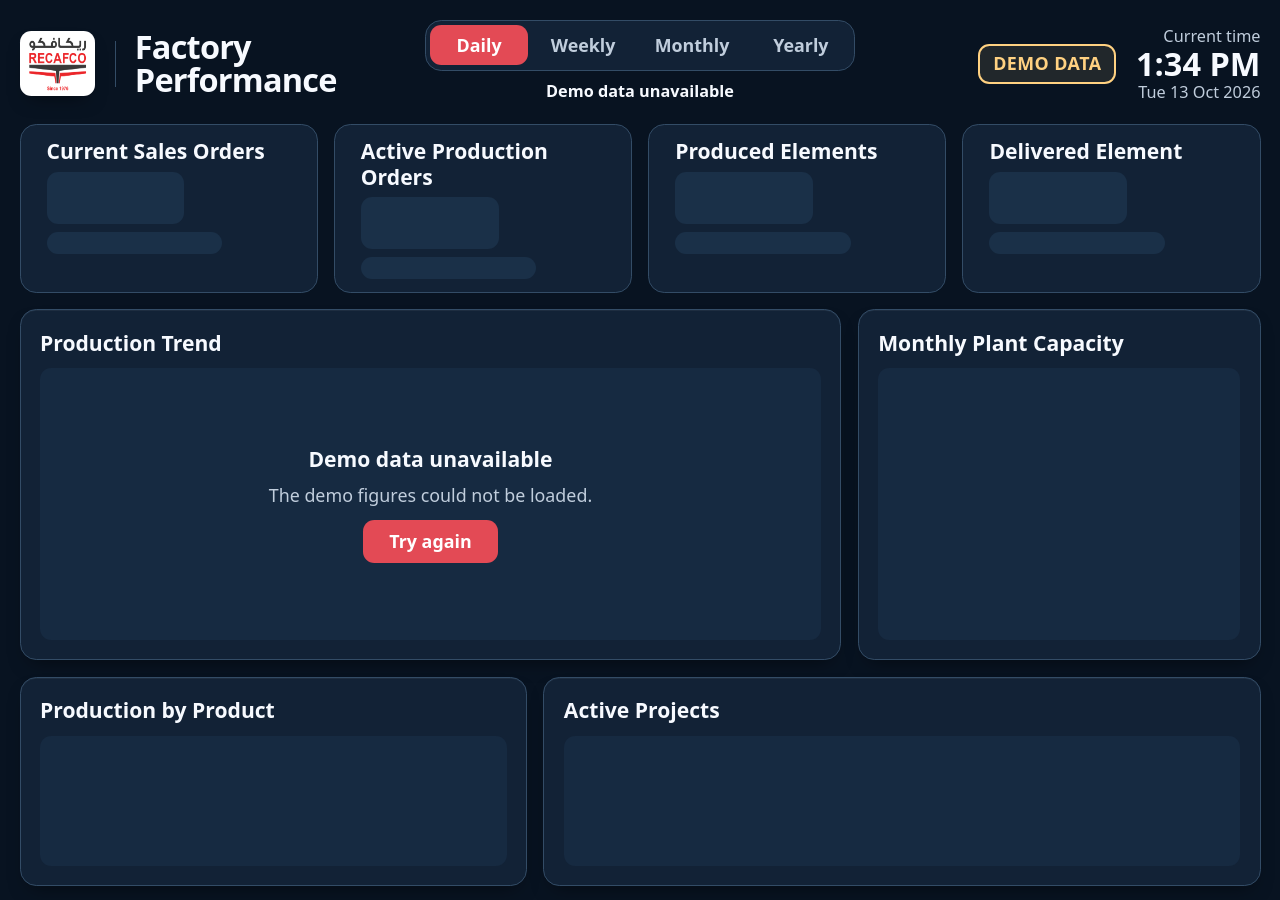
Test: initial load › recovers from an initial failure with Try again
The width and height of the screenshot is (1280, 900).
Expected: the message shows "Demo data unavailable", [308,444,552,472]
Click the button "Try again" at (430, 541), box [363,520,498,563]
(page scrolled)
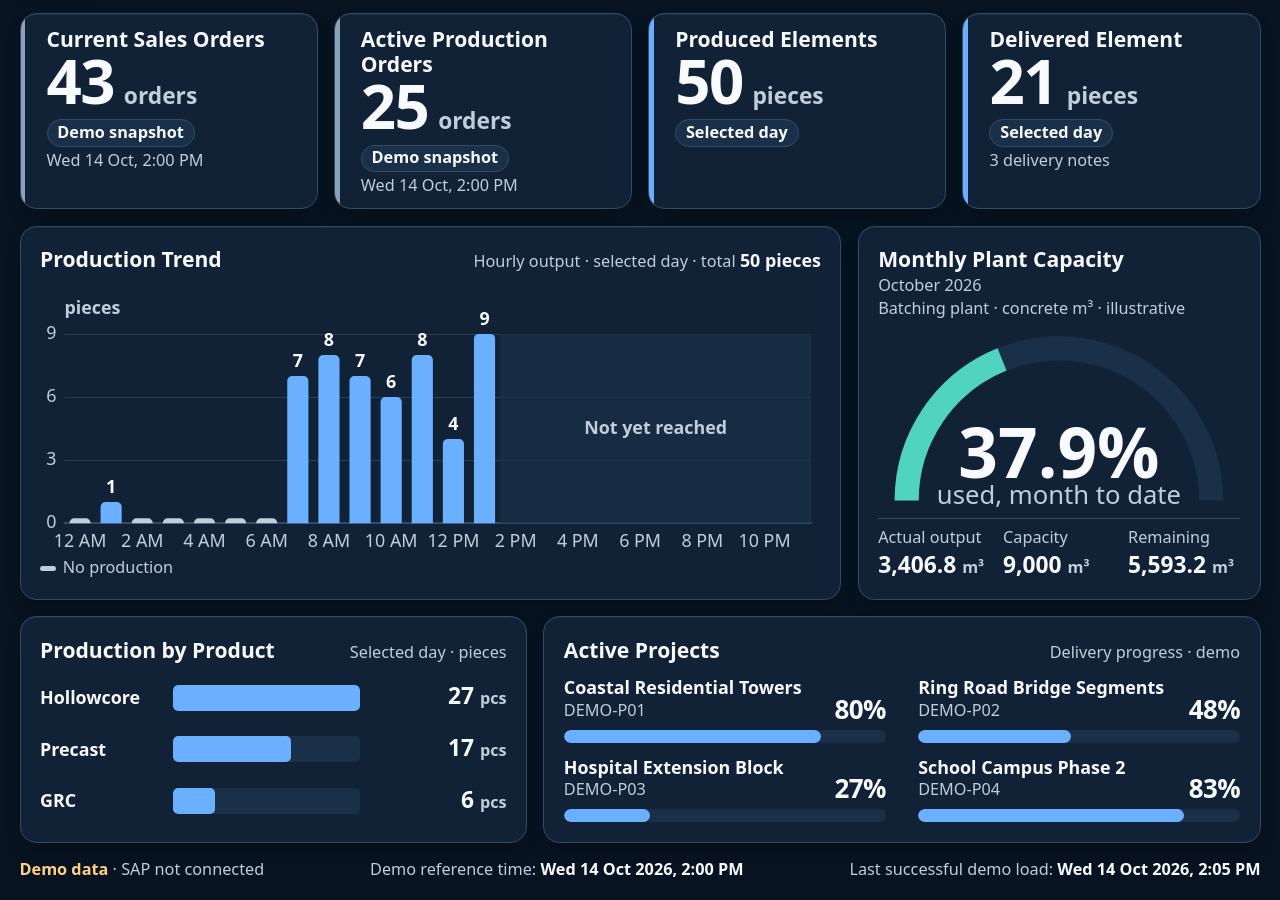
Expected: the text "50" is shown, [675,50,743,112]
Expected: the text "Selected day" below "Produced Elements" is shown, [686,121,788,143]
Expected: the text "21" is shown, [989,50,1057,112]
